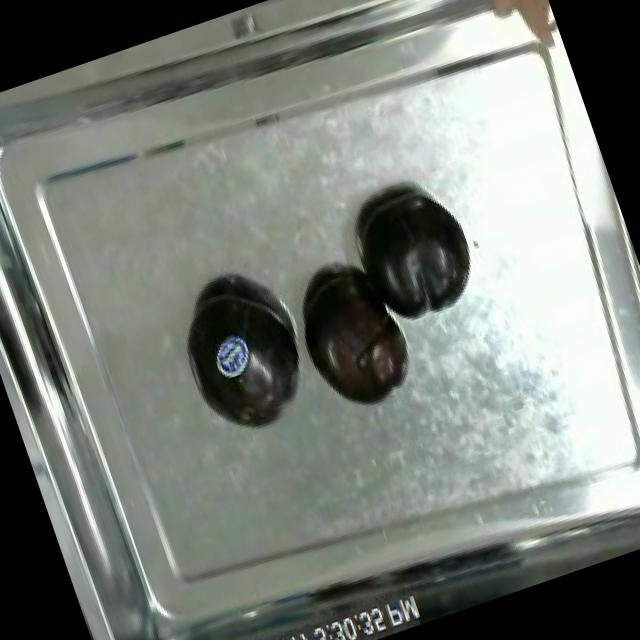Fruit: (158, 260, 332, 458), (276, 248, 426, 428), (337, 172, 490, 336), (200, 319, 264, 392), (452, 0, 555, 44)
